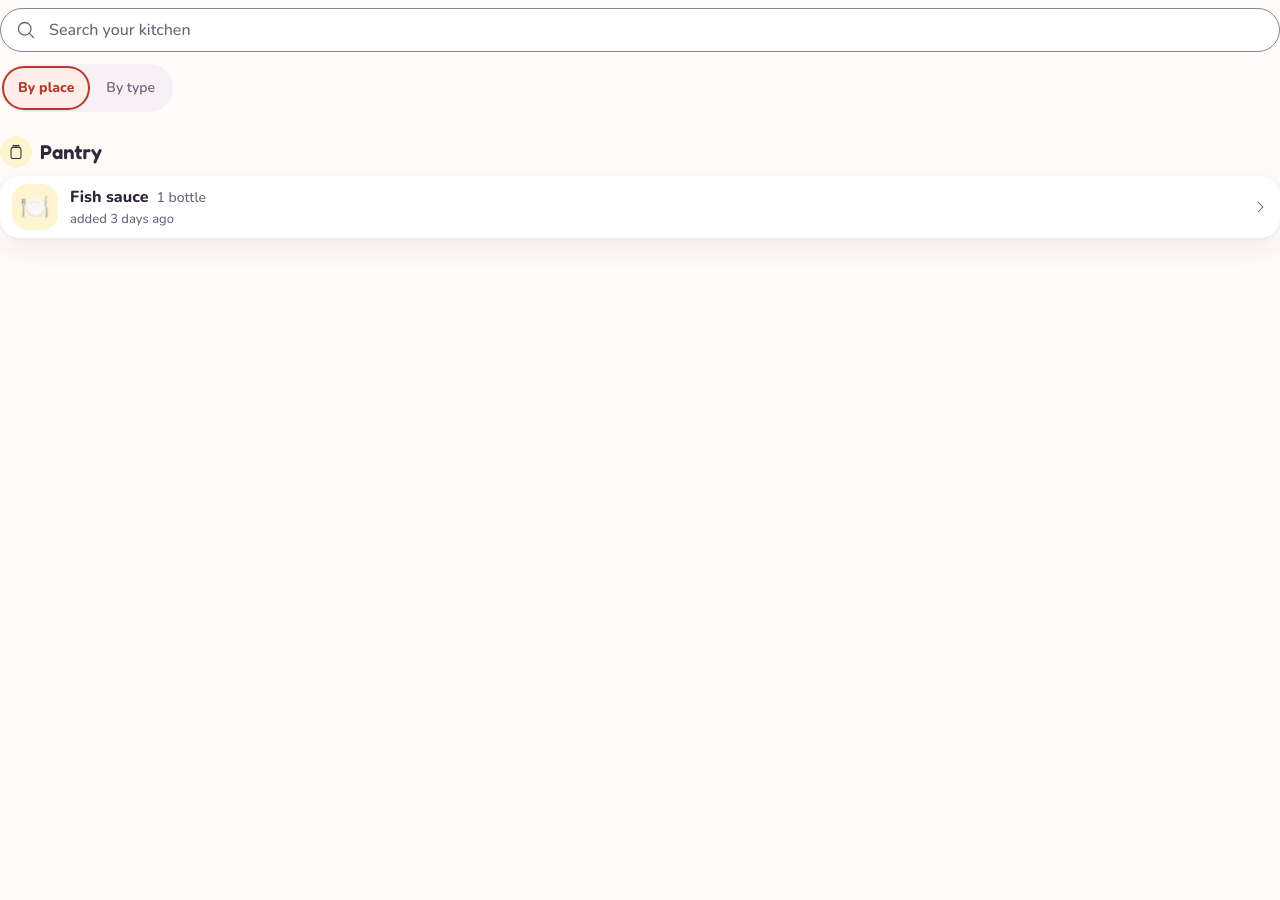
Test case: The sheet's fields › an empty name says 'Give it a name.' under the field on Save, focused, and nothing is sent
Click the button with aria-label "Edit fish sauce" at [109, 197], box [70,186,148,208]
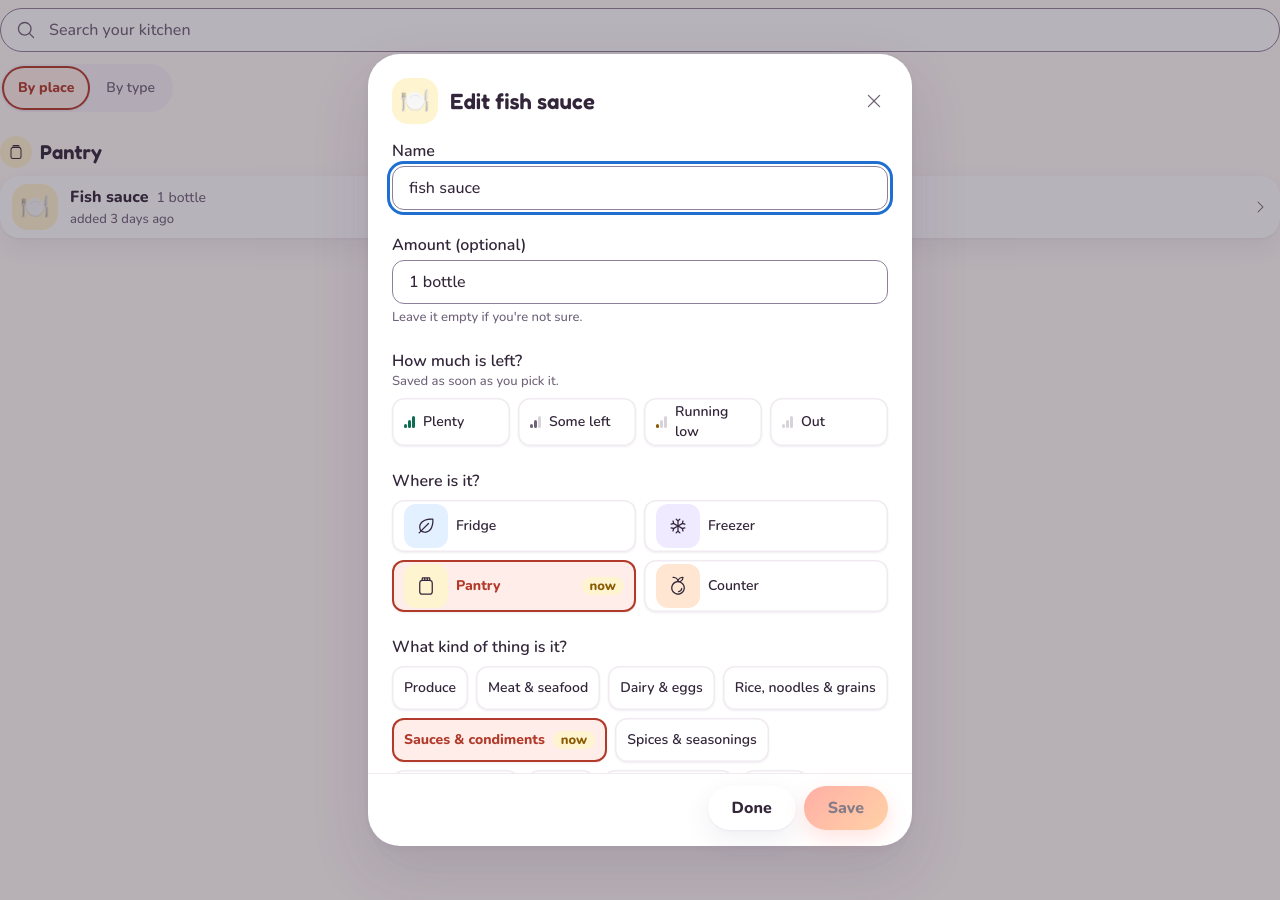
Clear the field labelled "Name" at [640, 188], box [392,166,888,210]
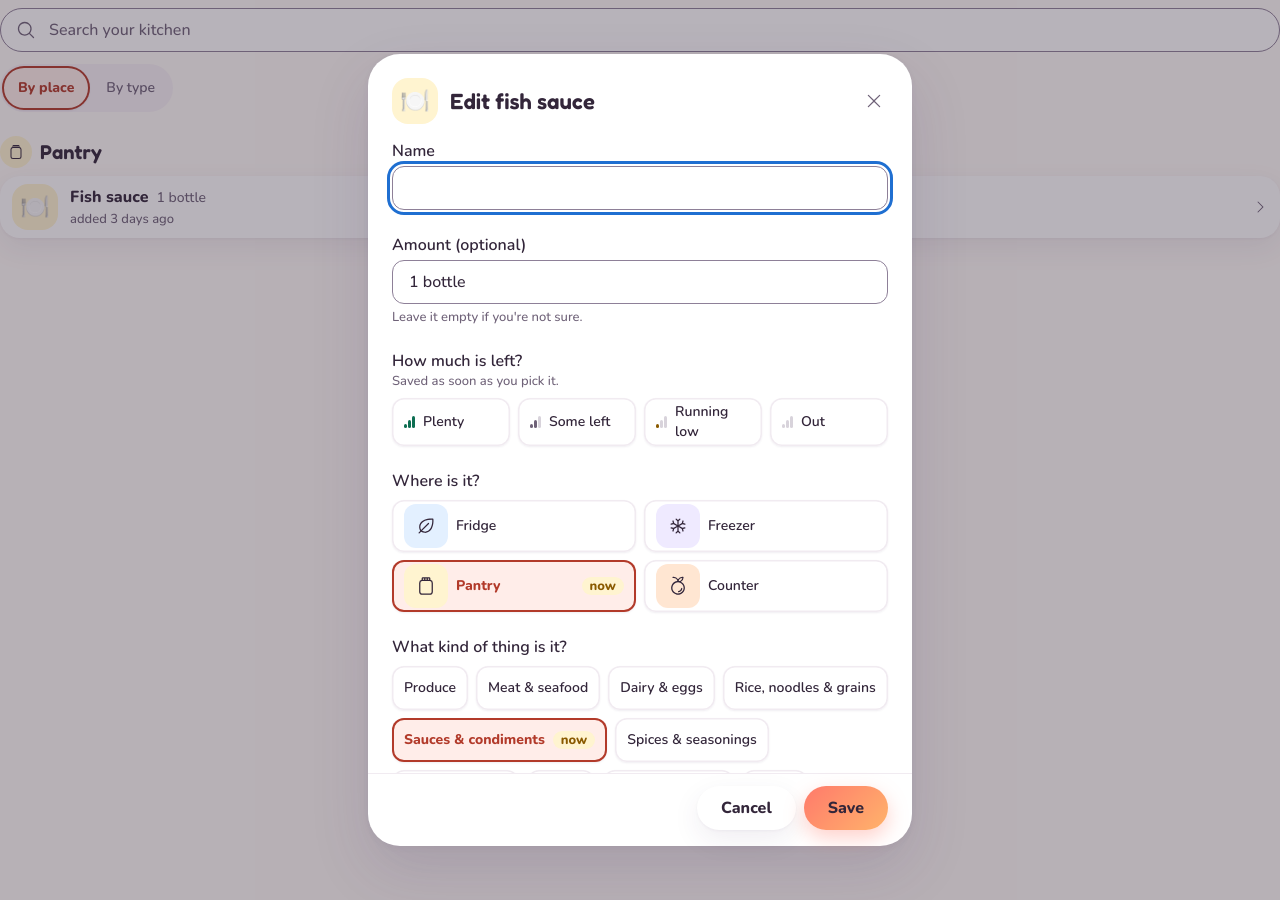
Expected: the text "Give it a name." is not shown
Click the button "Save" at [846, 808], box [804,786,888,830]
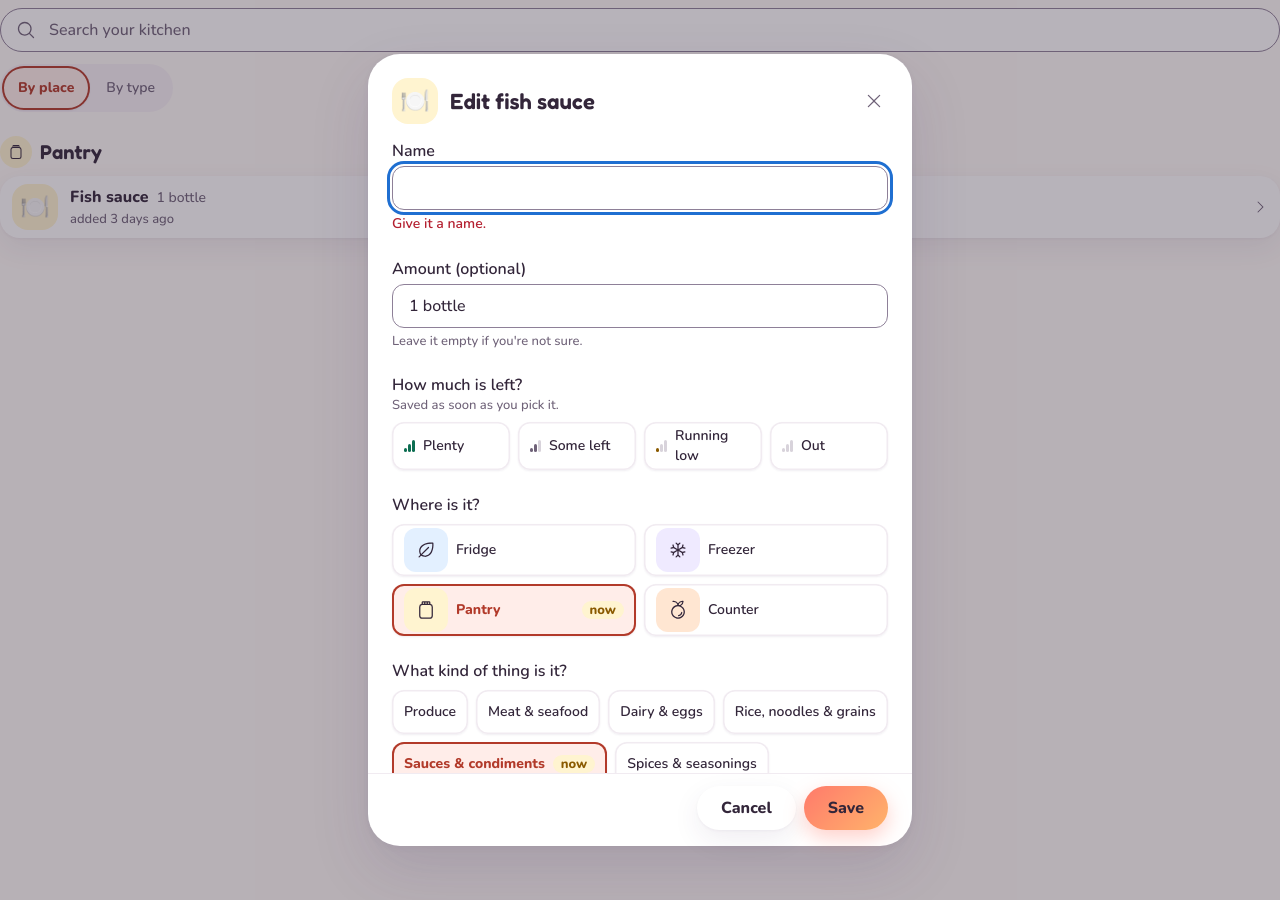
Expected: the text "Give it a name." is shown, [392,214,486,233]
